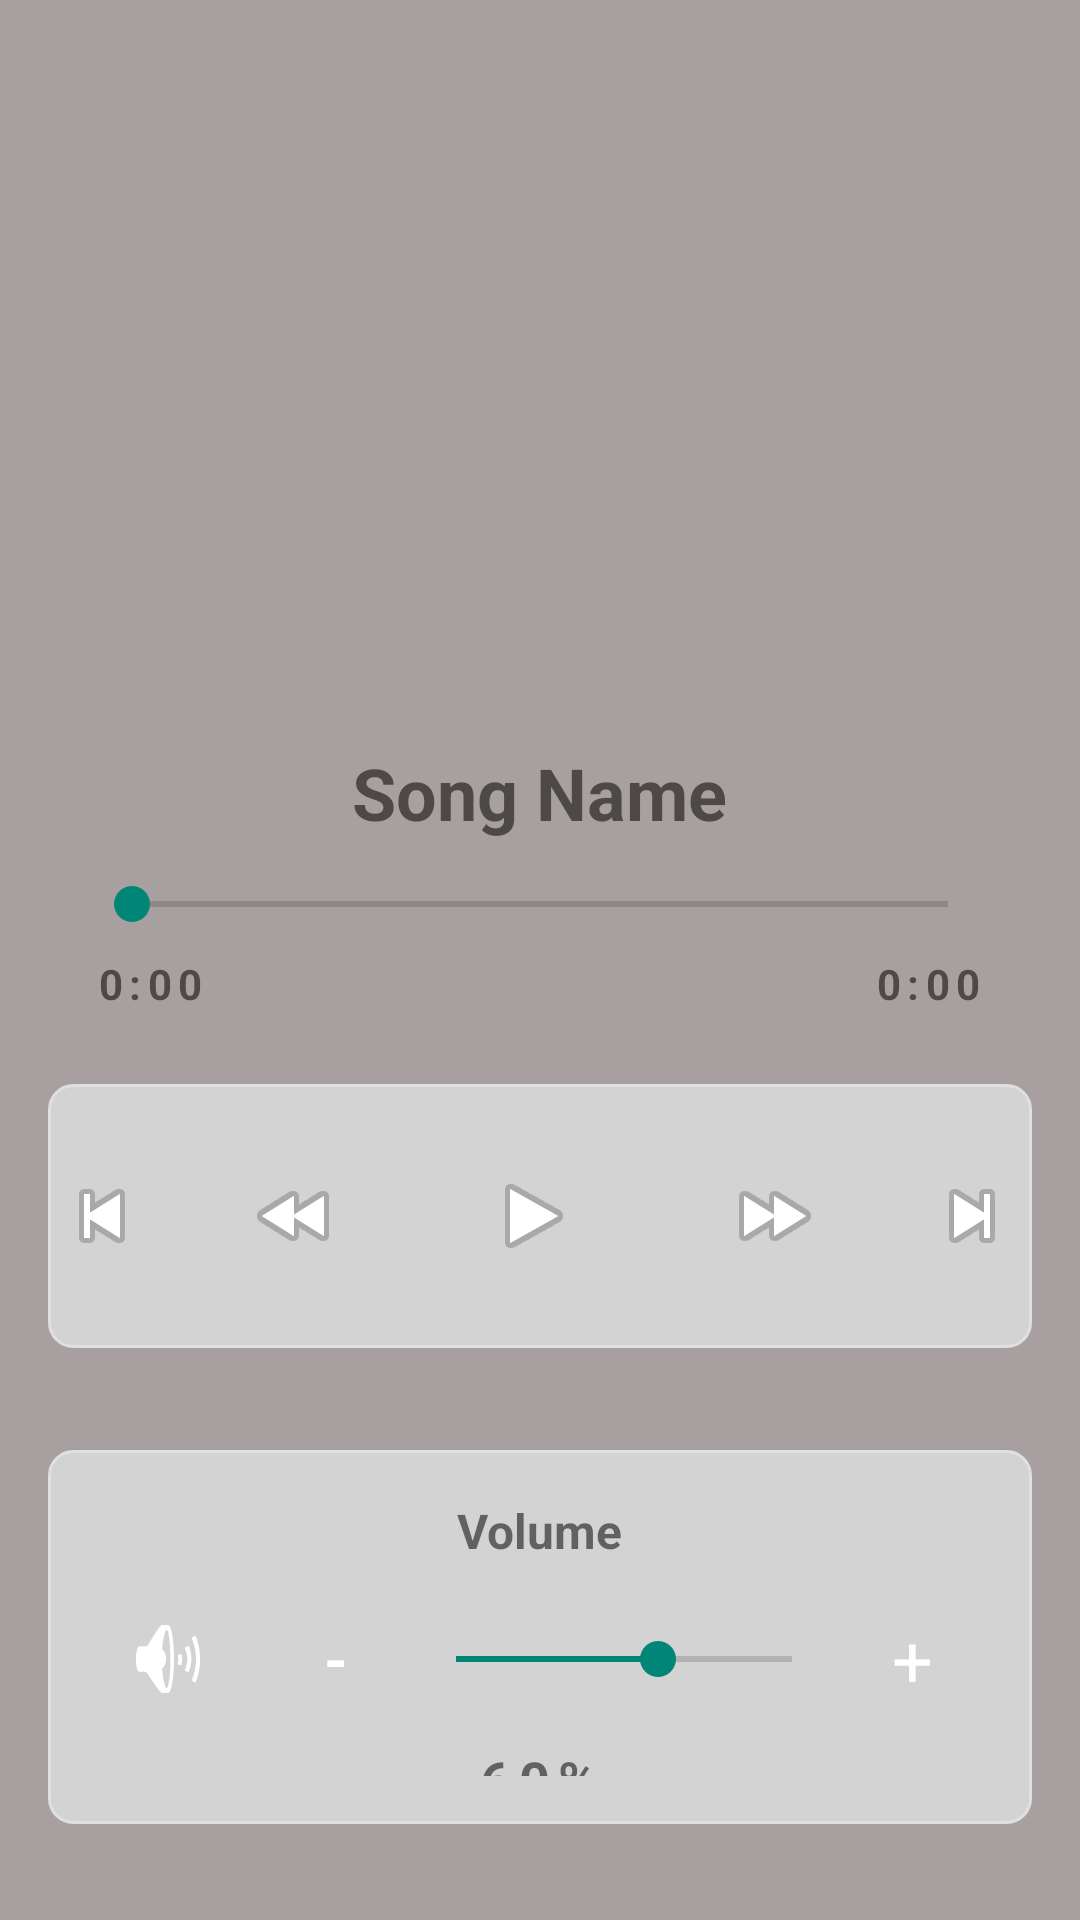

Screen size 1080px x 1920px. Icon name, then its box in pixels as (x1, y1, x2, y2):
Fast Forward 10 seconds: (739, 1191, 811, 1241)
Mute/Unmute: (136, 1625, 200, 1693)
Play/Pause: (505, 1184, 563, 1248)
Rewind 10 seconds: (257, 1191, 329, 1241)
